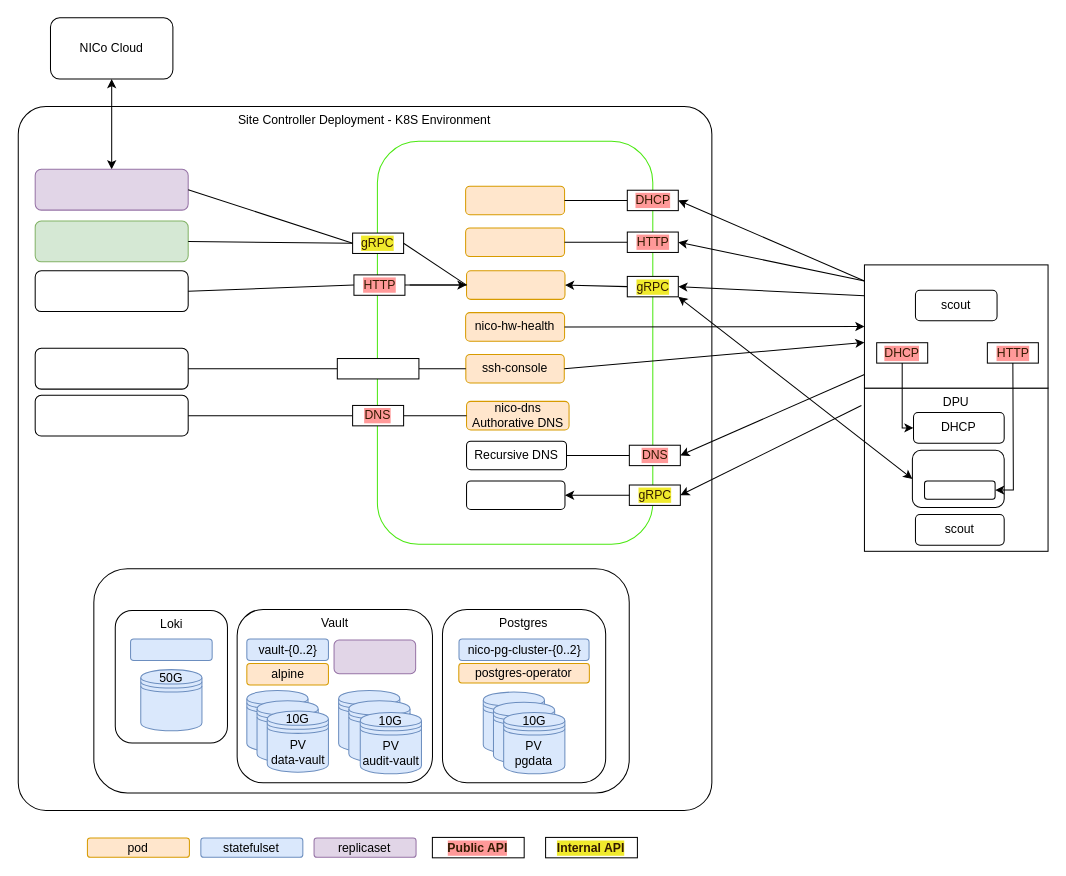
The diagram is 1066 pixels wide and 876 high, and some of its shapes have lost their labels. The shapes that lost their labels are listed below. From the top down, each one's box as (x1, y1, x2, y2) in pixels, then its label:
(34, 168, 188, 210): Elektra
(465, 185, 565, 215): nico-dhcp
(34, 220, 188, 262): NICo Admin CLI
(465, 227, 565, 257): nico-pxe
(34, 270, 188, 312): Web Browser with Admin/Debug Web UI
(466, 270, 565, 299): nico core Service
(376, 140, 653, 544): NICo Control Plane (Set of K8S Pods/Containers)
(863, 264, 1048, 388): Managed Node
(34, 347, 188, 389): SSH Sessions
(336, 358, 419, 379): SSH Protocol
(34, 394, 188, 436): DNS recursors
(466, 480, 565, 509): Route Server
(911, 449, 1004, 507): dpu-agent
(924, 480, 995, 499): FMDS
(130, 638, 212, 660): loki-0
(333, 639, 416, 674): vault-agent-injector
(140, 669, 202, 731): PV storage
(93, 568, 629, 793): K8s Persistent Data Storage
